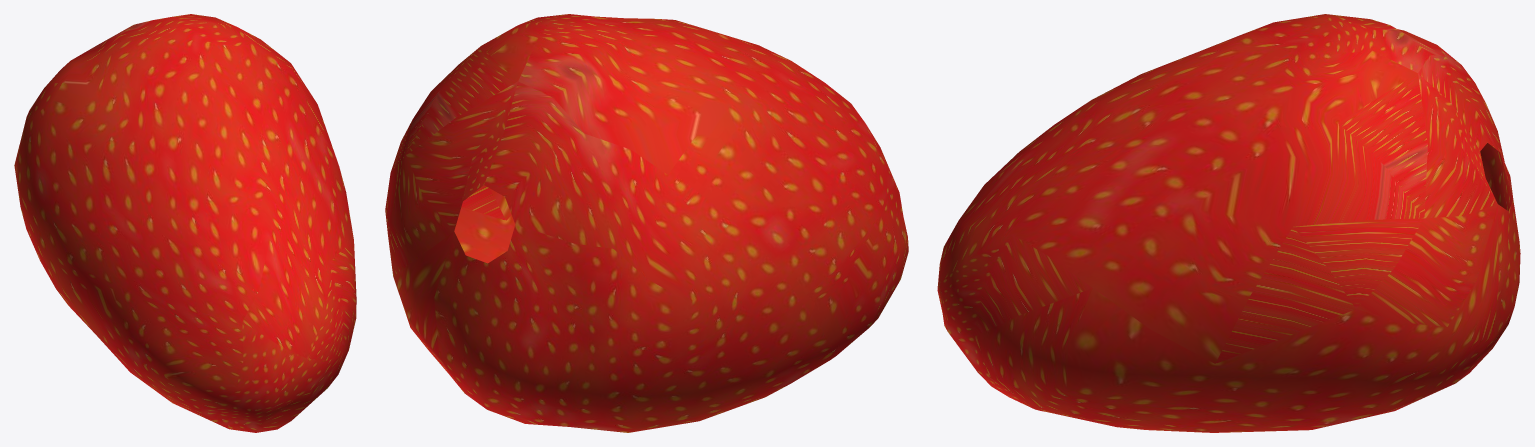
The model's file is strawberry.obj.
3 views of the same model, side by side, from view 1: azimuth 30°, elevation 25°; view 2: azimuth 150°, elevation 25°; view 3: azimuth 270°, elevation 25° (orthographic). The views are drawn at different scales.
Visible parts, largest first — view 1: strawberry; view 2: strawberry; view 3: strawberry.
Boxes of the visible parts, x1,y1,x2,y2 form: strawberry: (14, 14, 356, 432); strawberry: (385, 14, 908, 432); strawberry: (937, 14, 1520, 432).
Bounding box in the file's own units: 0.0811 × 0.0871 × 0.1137.
Materials: 1 (1 with a texture image).
